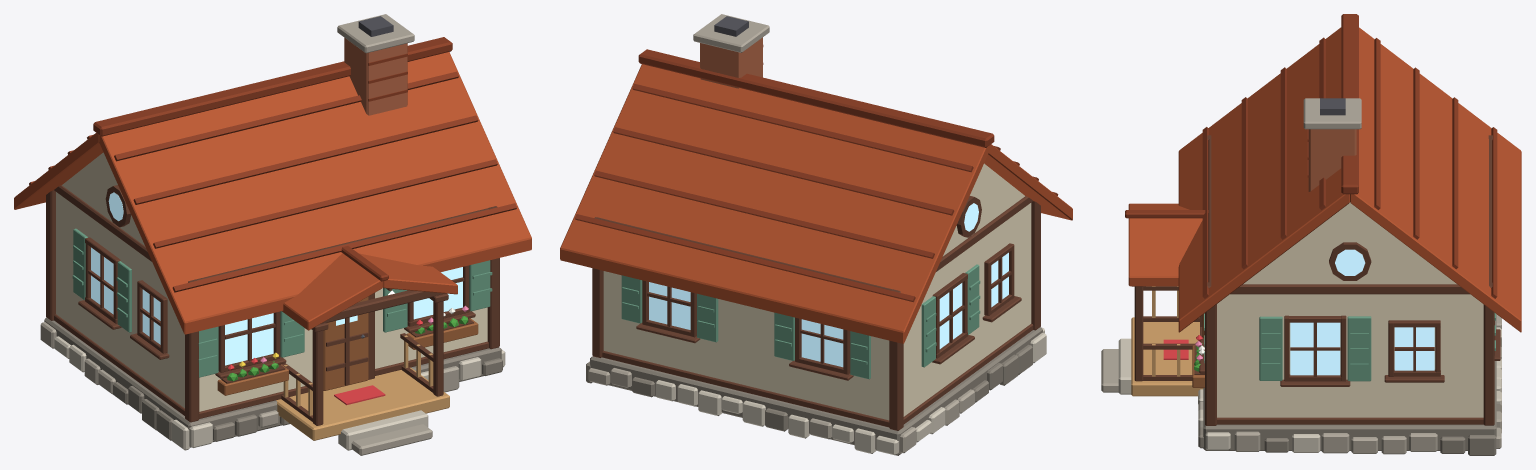
The model's file is Cottage.fbx.
3 renders of one model, left to right at view 1: azimuth 30°, elevation 25°; view 2: azimuth 150°, elevation 25°; view 3: azimuth 270°, elevation 25°, orthographic.
Visible parts, largest first — view 1: Cottage; view 2: Cottage; view 3: Cottage.
Boxes of the visible parts, bbox=[...] form: Cottage: bbox=[14, 14, 531, 455]; Cottage: bbox=[560, 14, 1072, 455]; Cottage: bbox=[1101, 14, 1521, 455].
Size of the model in its own units: 9.2 by 8.01 by 9.47.
